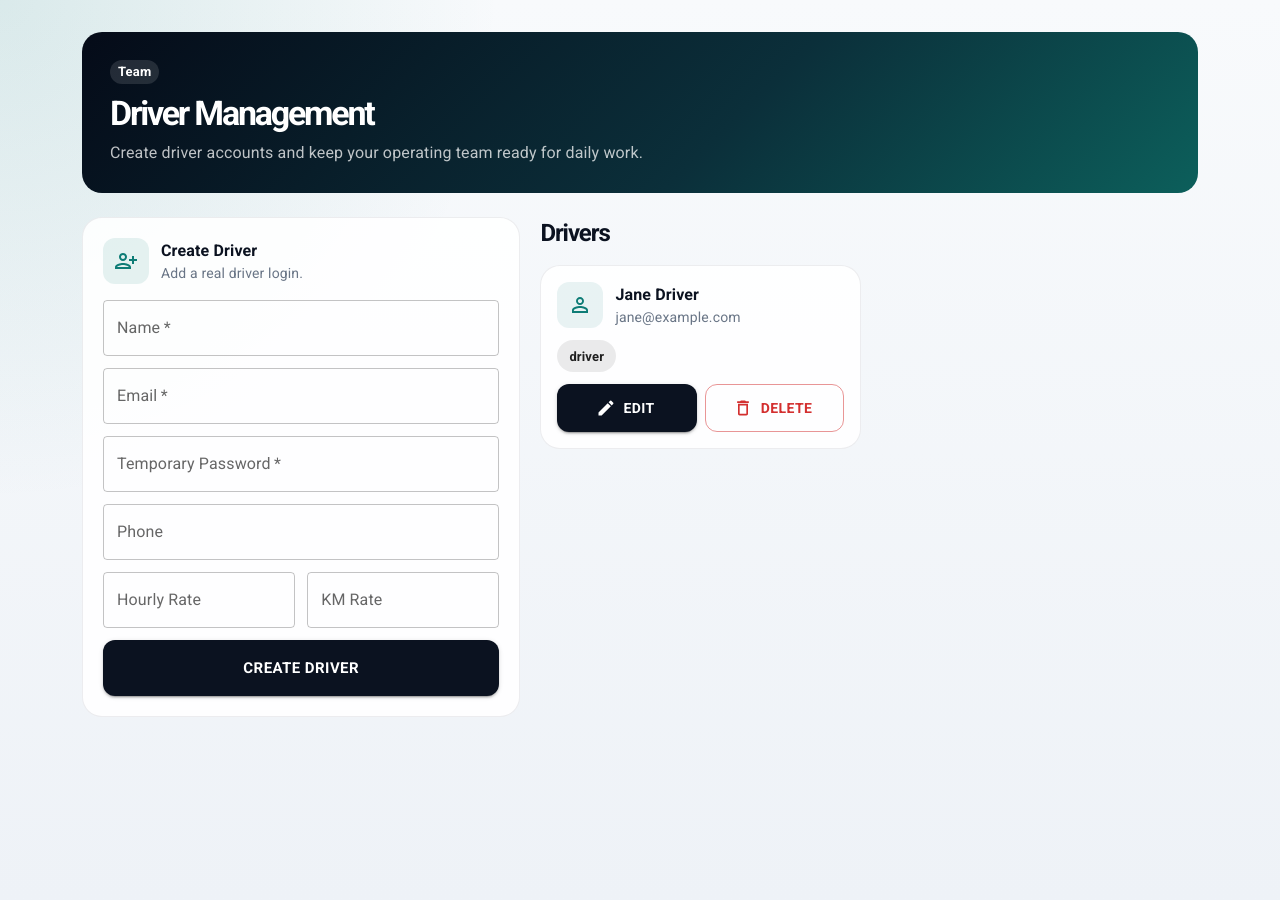
Test: admin Drivers — archive (not permanent delete) wording › PASS: if the backend response has no message, falls back to an accurate 'archived' wording rather than 'deleted'
The width and height of the screenshot is (1280, 900).
Check: the text "Jane Driver" is shown, box [615,285,699,304]
Click the button "Delete" at x=774, y=408, box [705,384,844,432]
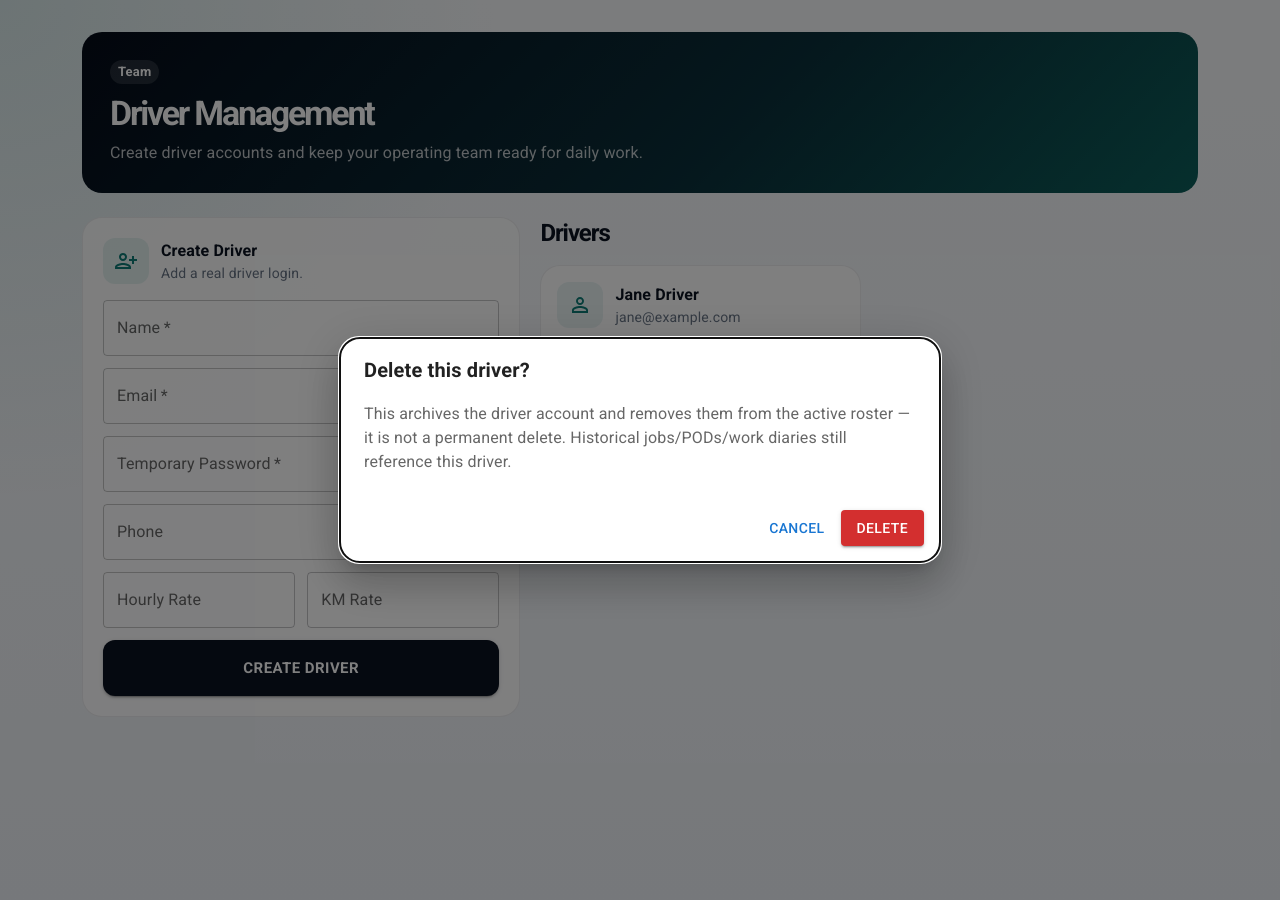
Click the button "Delete" at x=882, y=528, box [840,510,924,546]
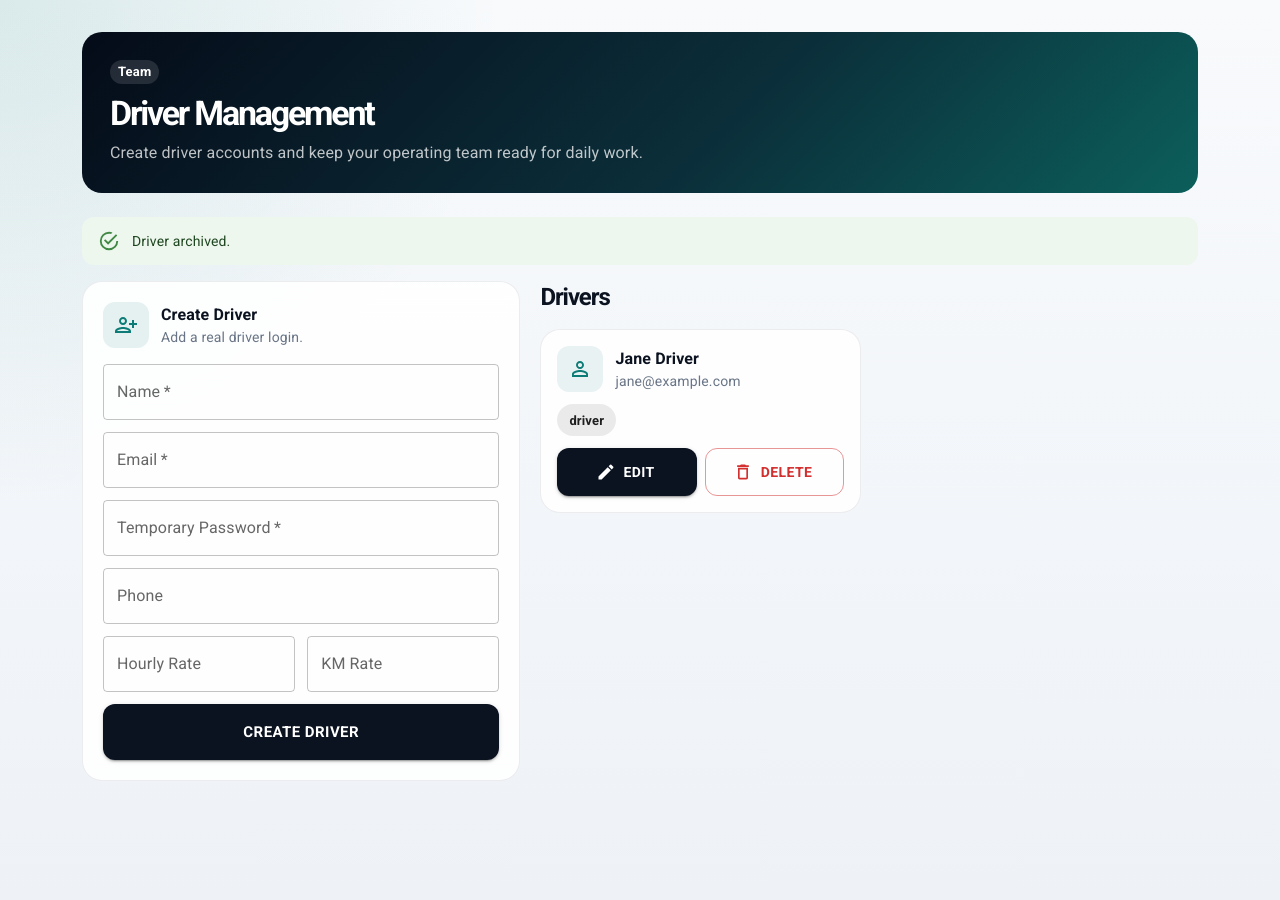
Check: the text "Driver archived." is shown, box [132,233,230,249]
